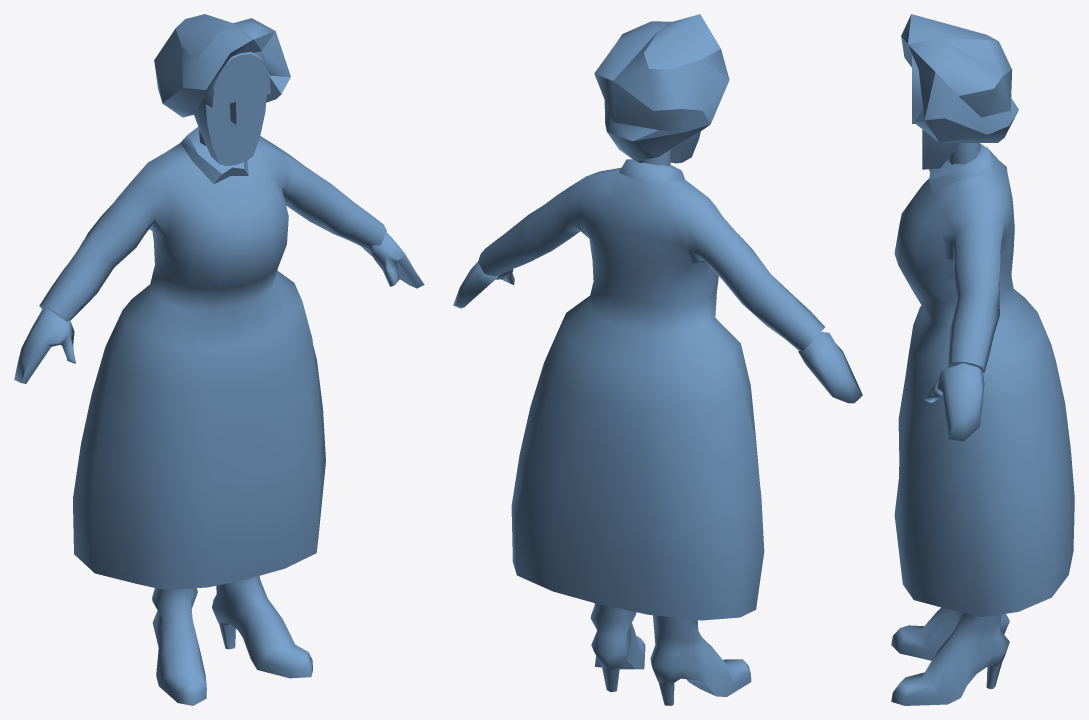
File: figure_mtr_cmb.fbx
3 views of the same model, side by side, from view 1: azimuth 30°, elevation 25°; view 2: azimuth 150°, elevation 25°; view 3: azimuth 270°, elevation 25° (orthographic).
Visible parts, largest first — view 1: FigureSc_Hair1; view 2: FigureSc_Hair1; view 3: FigureSc_Hair1.
Part boxes in pixels (box(x1,y1,x2,y2)): FigureSc_Hair1: box(14, 14, 424, 705); FigureSc_Hair1: box(453, 14, 862, 705); FigureSc_Hair1: box(891, 14, 1074, 705).
Bounding box in the file's own units: 63.73 × 99.71 × 25.54.
